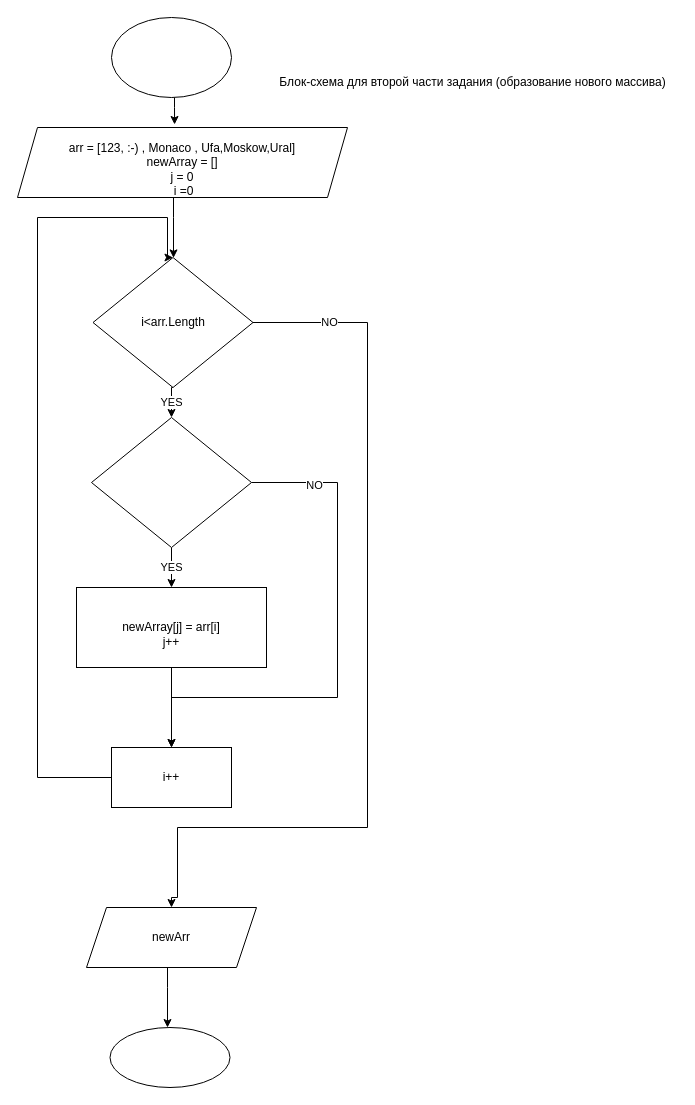
Image size: 695x1105. Some labels were removed from this diagram. The shapes that lost their labels are listed below. From the top down, each one's box as (x1, y1, x2, y2) in pixels, then its label:
(110, 16, 232, 98): START
(90, 416, 252, 548): arr[i].Length <= 3
(109, 1026, 230, 1088): End
